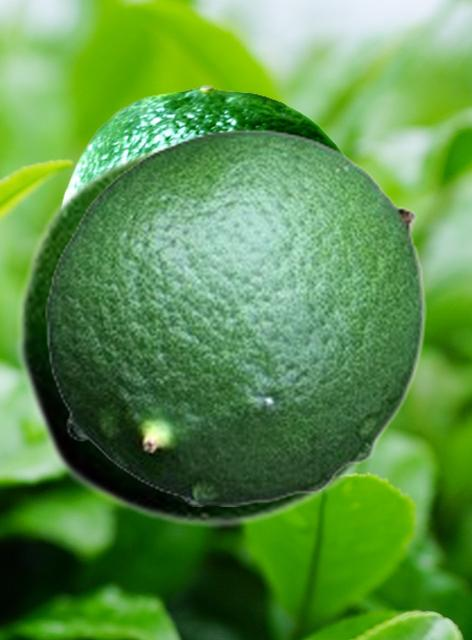calamansi: (14, 139, 402, 529), (45, 128, 425, 505), (60, 84, 347, 197)
